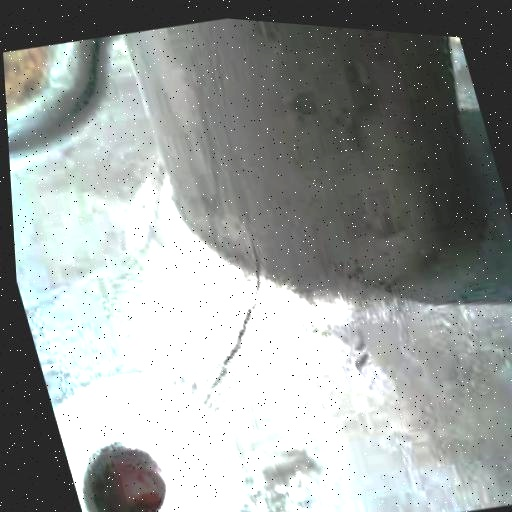crack: (130, 202, 320, 432)
